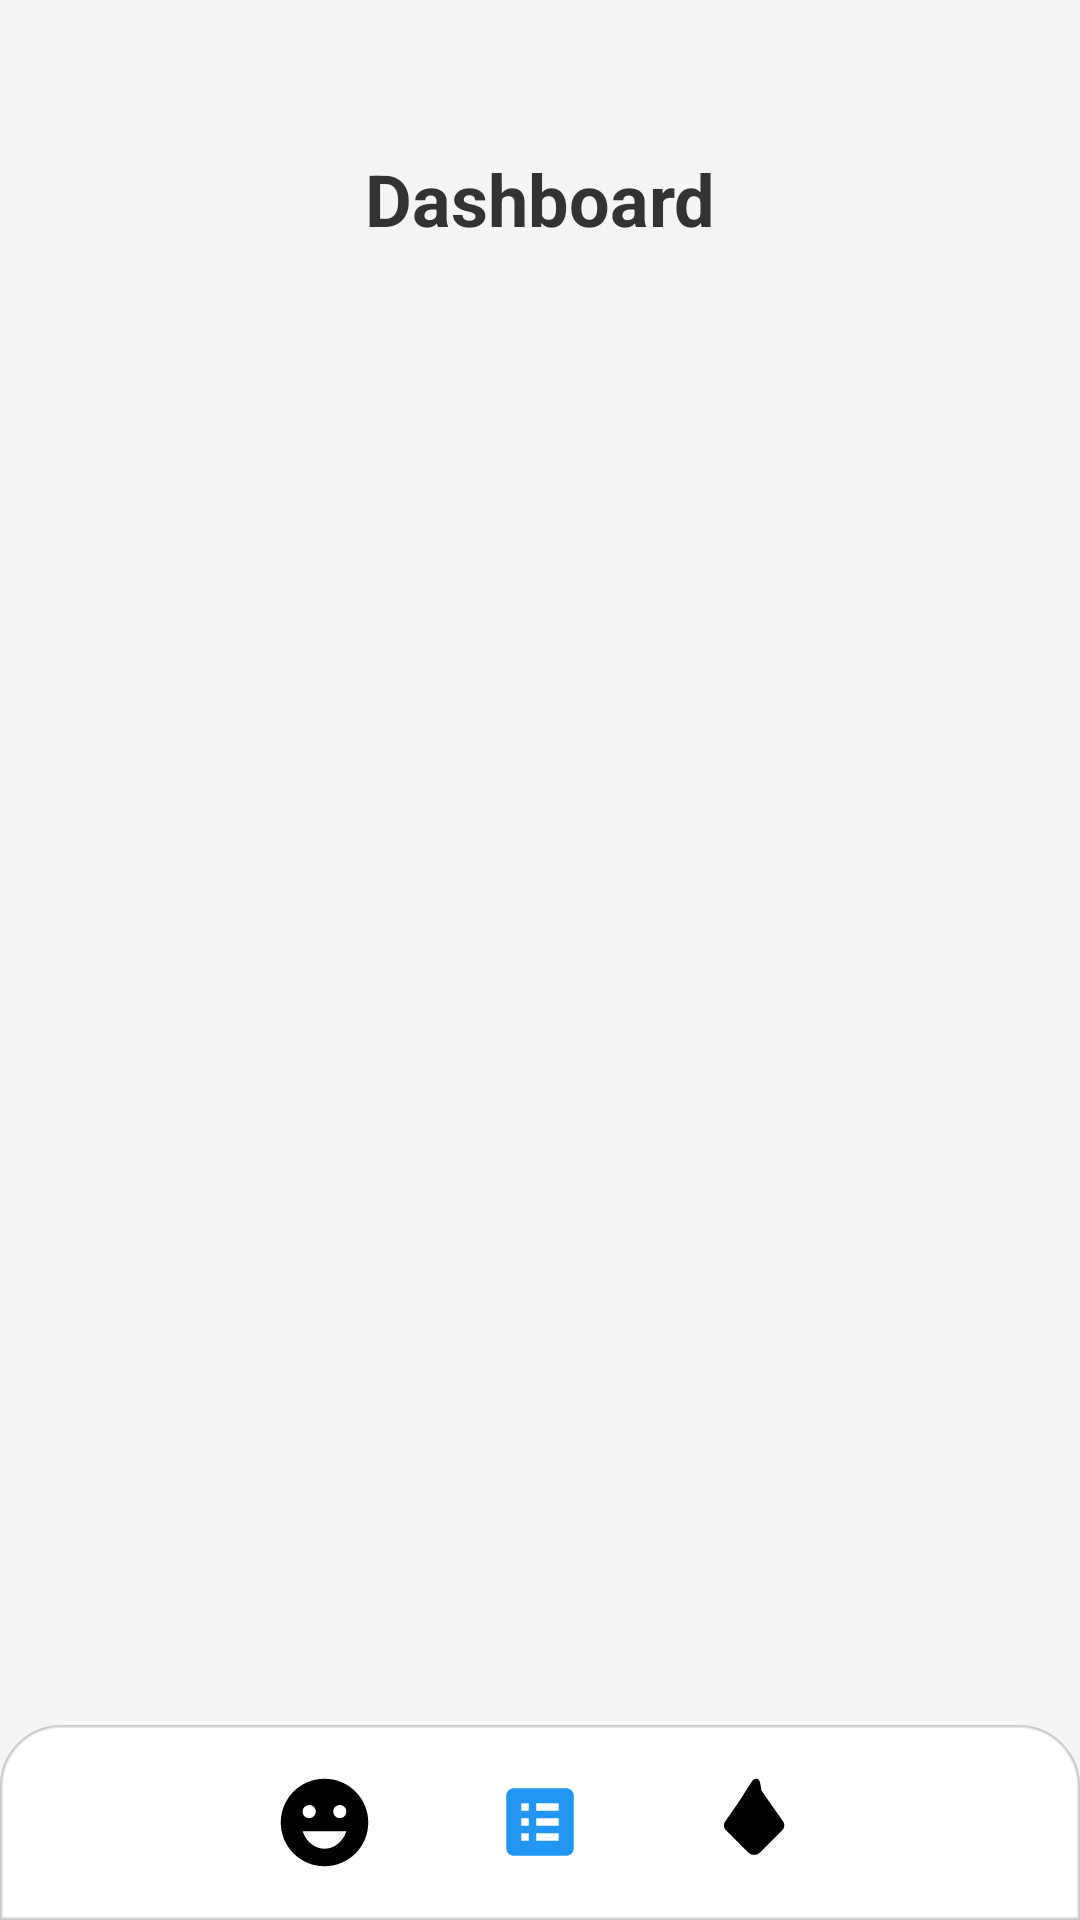

Icons on this 1080 x 1920 Android screen, each with the point to tap as (x,y):
Hydration: (754,1816)
